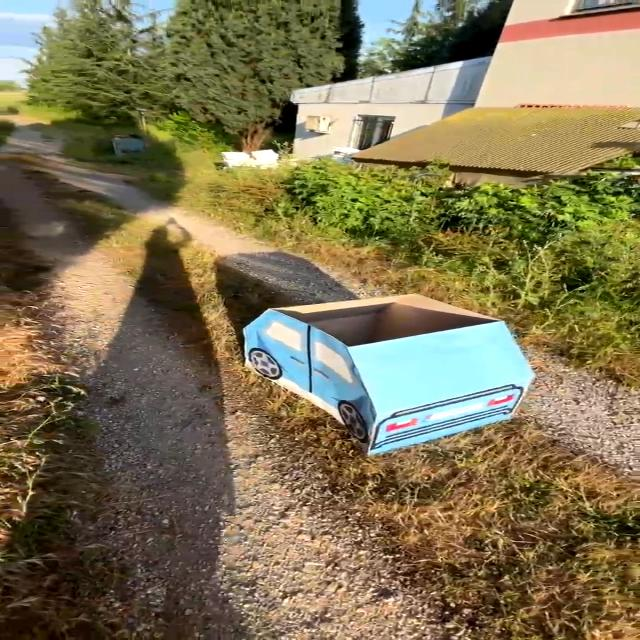blue_car: (196, 270, 561, 474)
